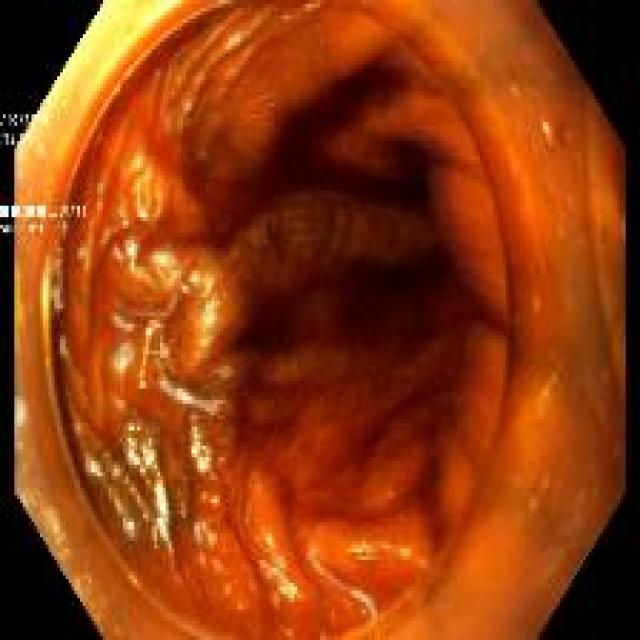color misalignment: (1, 204, 87, 220), (1, 115, 50, 128), (1, 223, 44, 235), (1, 133, 33, 145)
saturation: (136, 2, 179, 33), (115, 402, 125, 410)
specularity: (160, 380, 215, 416), (260, 557, 299, 603), (140, 321, 162, 388), (152, 252, 180, 288), (191, 427, 209, 475), (156, 483, 169, 545), (352, 592, 376, 620), (201, 298, 220, 333), (127, 240, 143, 276), (114, 347, 133, 376), (41, 264, 49, 330), (136, 180, 148, 220), (141, 444, 155, 472), (346, 544, 374, 558), (203, 525, 217, 551), (152, 340, 169, 361), (113, 316, 134, 332), (201, 275, 214, 299), (123, 522, 136, 542), (52, 288, 63, 310), (131, 488, 142, 510), (86, 461, 101, 477), (16, 399, 25, 425), (154, 192, 163, 218), (127, 452, 141, 468), (228, 34, 242, 49), (194, 525, 201, 546), (113, 248, 123, 262), (116, 499, 123, 517), (145, 169, 153, 184), (133, 156, 142, 169), (199, 339, 212, 348), (61, 337, 66, 357), (78, 248, 88, 258), (190, 274, 199, 285), (141, 274, 152, 283), (119, 206, 127, 218), (153, 532, 157, 552), (139, 469, 147, 479), (416, 561, 427, 568), (180, 285, 188, 294), (398, 552, 410, 558), (200, 557, 206, 569), (143, 514, 149, 525), (128, 439, 134, 449), (113, 470, 119, 479), (123, 222, 130, 229), (190, 416, 197, 423), (212, 501, 219, 507), (128, 428, 134, 434), (99, 185, 104, 192), (124, 481, 129, 486)
